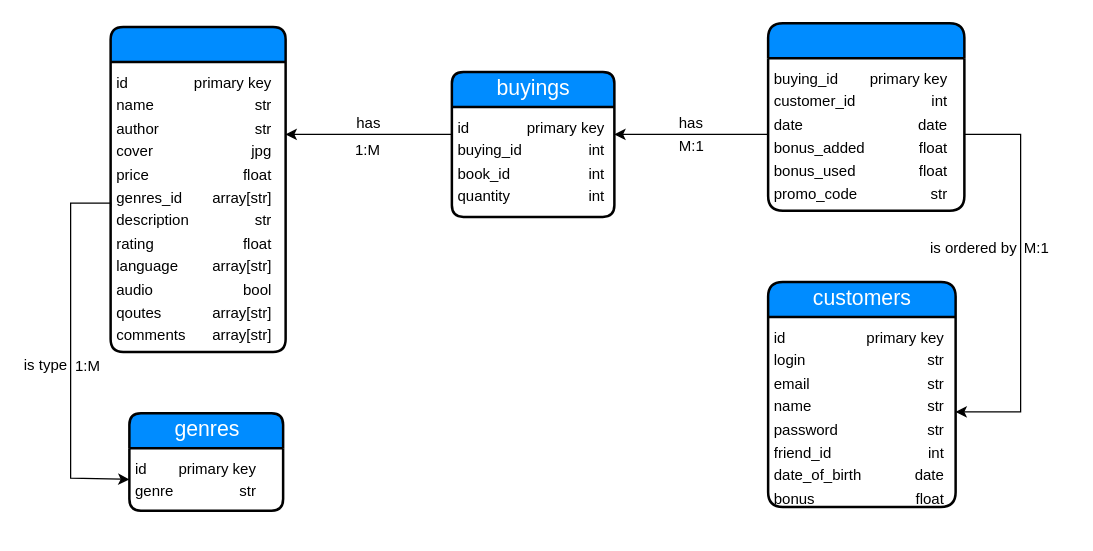
The diagram is 1093 pixels wide and 551 high, and some of its shapes have lost their labels. The box of each missing label's shape, as (x1, y1, x2, y2) in pixels:
books: (109, 25, 286, 352)
orders: (766, 21, 965, 211)
